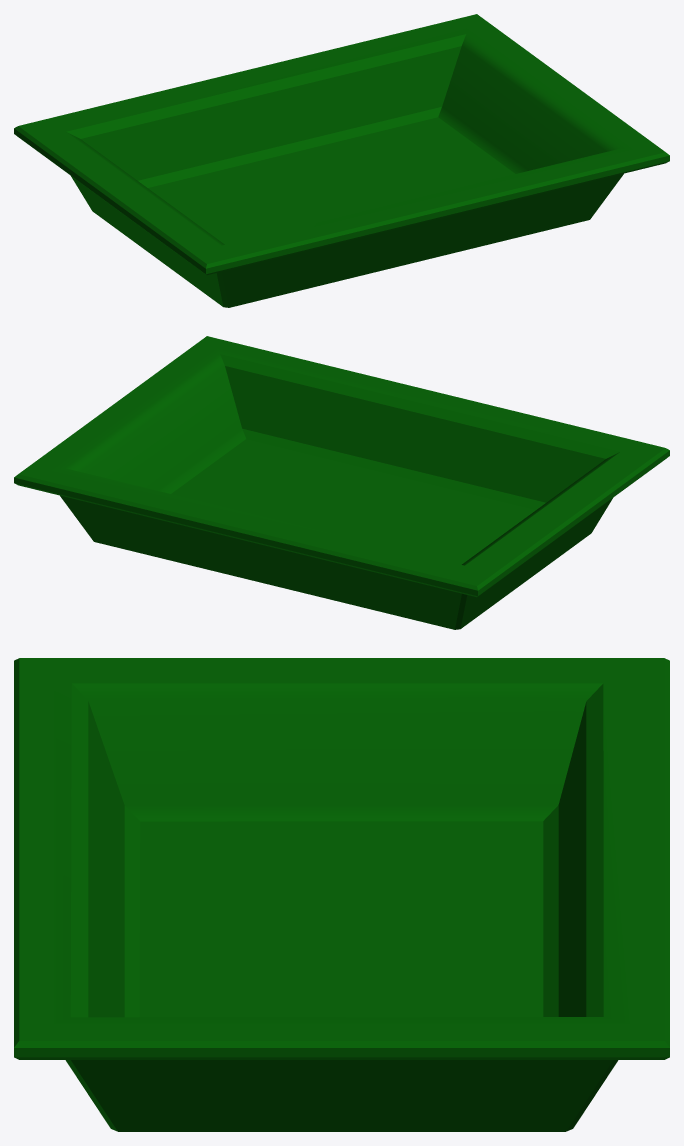
Rendered from Tray.fbx.
3 renders of one model, top to bottom at view 1: azimuth 30°, elevation 25°; view 2: azimuth 150°, elevation 25°; view 3: azimuth 270°, elevation 25°, orthographic. The views are drawn at different scales.
Visible parts, largest first — view 1: Tray; view 2: Tray; view 3: Tray.
Boxes of the visible parts, x1,y1,x2,y2 form: Tray: (14, 14, 669, 307); Tray: (14, 336, 669, 629); Tray: (14, 658, 669, 1131).
Bounding box in the file's own units: 62.65 × 9.72 × 44.86.
